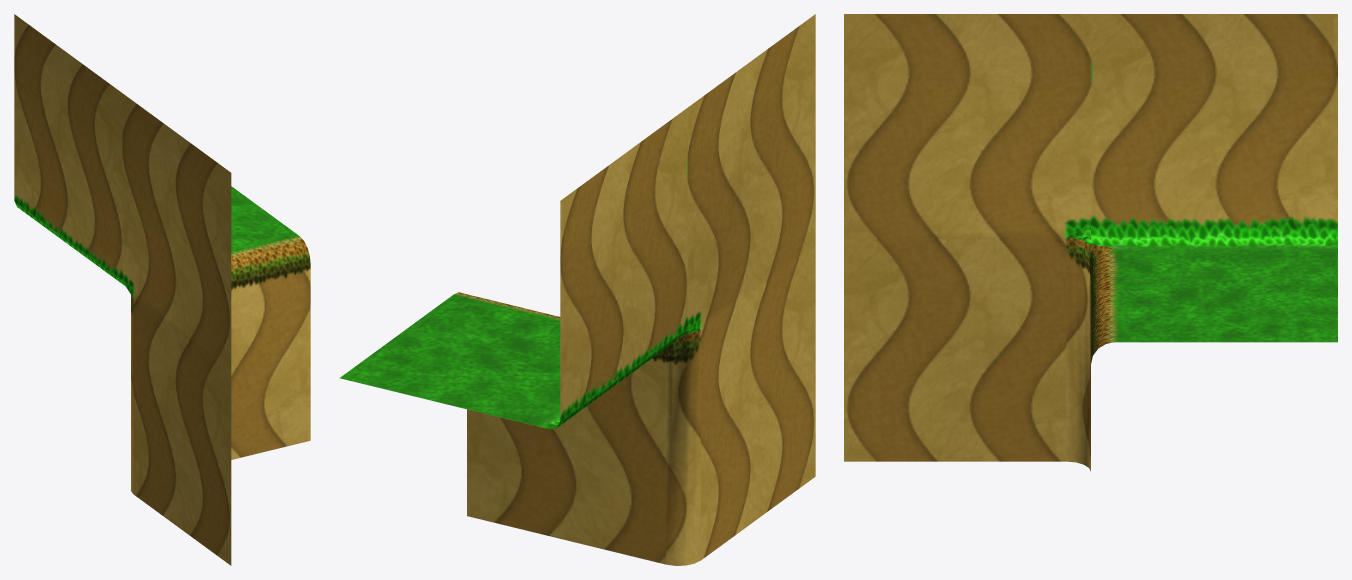
Rendered from Wall_Side_Outwards_Along_Wall.fbx.
3 views of the same model, side by side, from view 1: azimuth 30°, elevation 25°; view 2: azimuth 150°, elevation 25°; view 3: azimuth 270°, elevation 25° (orthographic). The views are drawn at different scales.
Visible parts, largest first — view 1: Txt_Wall_Side_Outwards_Along_Wall; view 2: Txt_Wall_Side_Outwards_Along_Wall; view 3: Txt_Wall_Side_Outwards_Along_Wall.
Part boxes in pixels (x1=…): Txt_Wall_Side_Outwards_Along_Wall: x1=14, y1=14, x2=310, y2=565; Txt_Wall_Side_Outwards_Along_Wall: x1=339, y1=14, x2=815, y2=565; Txt_Wall_Side_Outwards_Along_Wall: x1=844, y1=14, x2=1337, y2=471.
Size of the model in its own units: 200 by 400 by 400.
